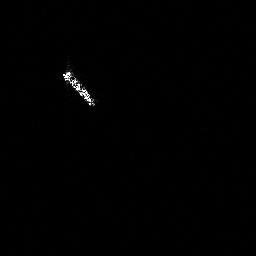ship: (60, 68, 97, 109)
